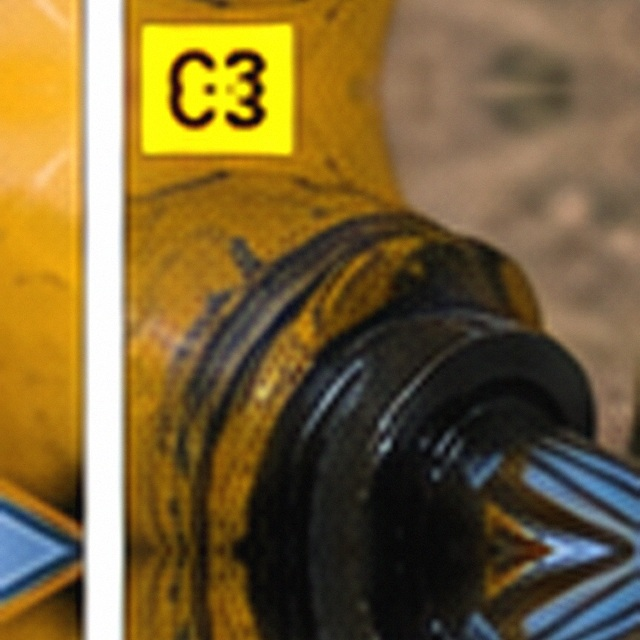hydraulic_oil_leak: (220, 202, 404, 514)
